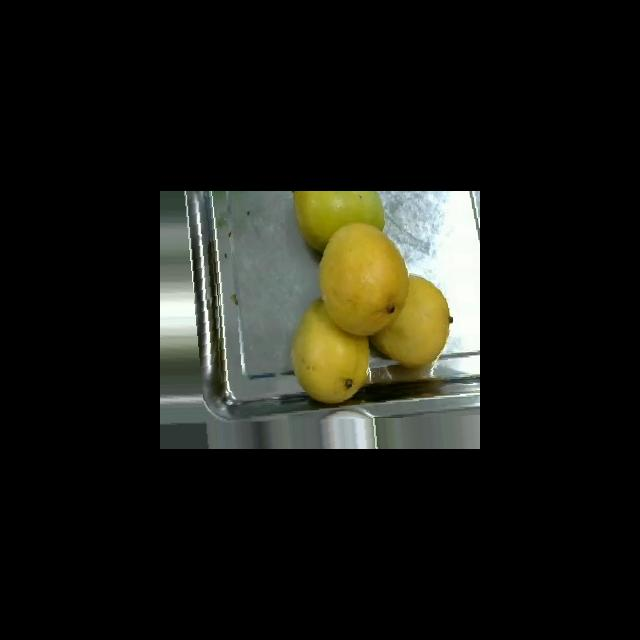mango: (318, 222, 409, 336), (290, 298, 370, 404), (370, 274, 452, 369), (292, 191, 385, 252)
